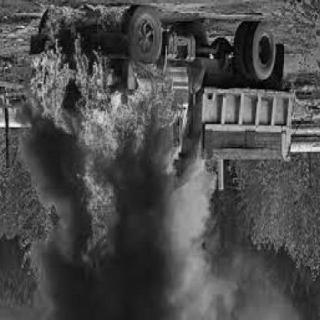Smoke: (121, 179, 235, 315)
